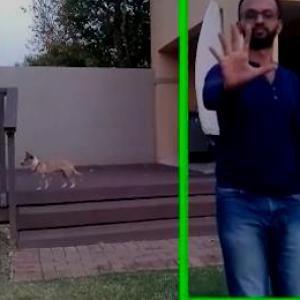follow_hand: (202, 15, 280, 92)
